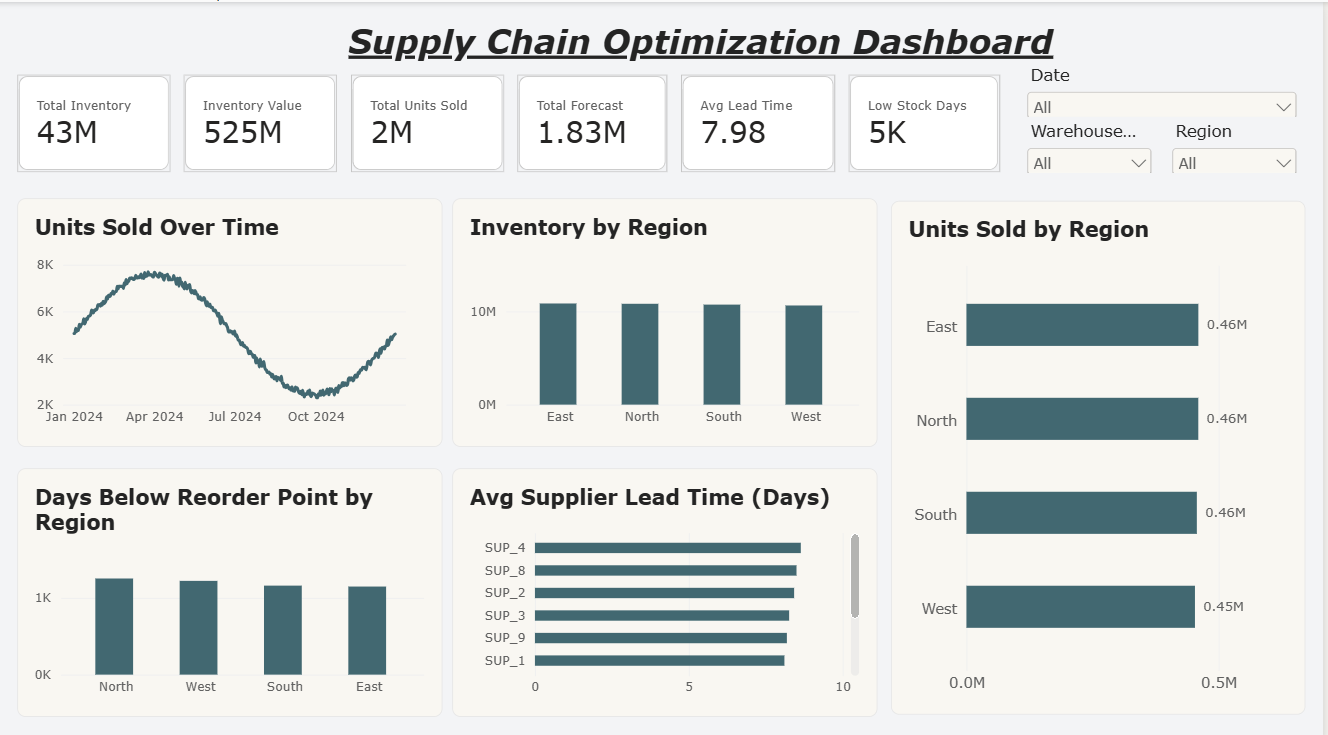

Layout of this report page (visuals, bound fields, positions):
{"tool":"powerbi","page":{"name":"Supply Chain Overview","canvas":[1280,720],"ordinal":0},"visuals":[{"type":"cardVisual","fields":{"Data":["cleaned_supply_chain.Total Inventory"]},"box":[20.6,70,148.2,94.7],"z":0},{"type":"cardVisual","fields":{"Data":["cleaned_supply_chain.Total Forecast"]},"box":[503.1,70,145.5,94.7],"z":1000},{"type":"cardVisual","fields":{"Data":["cleaned_supply_chain.Inventory Value"]},"box":[181.4,70,148.2,94.7],"z":2000},{"type":"cardVisual","fields":{"Data":["cleaned_supply_chain.Avg Lead Time"]},"box":[661.1,70,149.6,94.7],"z":3000},{"type":"cardVisual","fields":{"Data":["cleaned_supply_chain.Low Stock Days"]},"box":[823.3,70,146.8,94.7],"z":4000},{"type":"cardVisual","fields":{"Data":["cleaned_supply_chain.Total Units Sold"]},"box":[342.2,70,148.2,94.7],"z":5000},{"type":"clusteredColumnChart","title":"Inventory by Region","fields":{"Category":["cleaned_supply_chain.Region"],"Y":["cleaned_supply_chain.Total Inventory"]},"box":[440,190,410,240],"z":6000},{"type":"lineChart","title":"Units Sold Over Time","fields":{"Category":["cleaned_supply_chain.Date"],"Y":["cleaned_supply_chain.Total Units Sold"]},"box":[20,190,410,240],"z":7000},{"type":"clusteredColumnChart","title":"Days Below Reorder Point by Region","fields":{"Category":["cleaned_supply_chain.Region"],"Y":["cleaned_supply_chain.Low Stock Days"]},"box":[20,450,410,240],"z":8000},{"type":"clusteredBarChart","title":"Avg Supplier Lead Time (Days)","fields":{"Category":["cleaned_supply_chain.Supplier_ID"],"Y":["cleaned_supply_chain.Avg Lead Time"]},"box":[440,450,410,240],"z":9000},{"type":"slicer","fields":{"Values":["cleaned_supply_chain.Region"]},"box":[1130,115,130,50],"z":10000},{"type":"slicer","fields":{"Values":["cleaned_supply_chain.Date"]},"box":[990,60,270,50],"z":11000},{"type":"slicer","fields":{"Values":["cleaned_supply_chain.Warehouse_ID"]},"box":[990,115,130,50],"z":12000},{"type":"clusteredBarChart","title":"Units Sold by Region","fields":{"Category":["cleaned_supply_chain.Region"],"Y":["Sum(cleaned_supply_chain.Units_Sold)"]},"box":[864,192,400,496],"z":13000},{"type":"textbox","box":[340,18.6,944.3,41.4],"z":14000}]}

Visuals, with their boxes in screenshot pixels (x1, y1, x2, y2), scaled from the page's 1280x720 canvas onto the 1328x735 screenshot:
cardVisual - cleaned_supply_chain.Total Inventory: 21,71,175,168
cardVisual - cleaned_supply_chain.Total Forecast: 522,71,673,168
cardVisual - cleaned_supply_chain.Inventory Value: 188,71,342,168
cardVisual - cleaned_supply_chain.Avg Lead Time: 686,71,841,168
cardVisual - cleaned_supply_chain.Low Stock Days: 854,71,1006,168
cardVisual - cleaned_supply_chain.Total Units Sold: 355,71,509,168
"Inventory by Region" clusteredColumnChart: 457,194,882,439
"Units Sold Over Time" lineChart: 21,194,446,439
"Days Below Reorder Point by Region" clusteredColumnChart: 21,459,446,704
"Avg Supplier Lead Time (Days)" clusteredBarChart: 457,459,882,704
slicer - cleaned_supply_chain.Region: 1172,117,1307,168
slicer - cleaned_supply_chain.Date: 1027,61,1307,112
slicer - cleaned_supply_chain.Warehouse_ID: 1027,117,1162,168
"Units Sold by Region" clusteredBarChart: 896,196,1311,702
textbox: 353,19,1327,61
